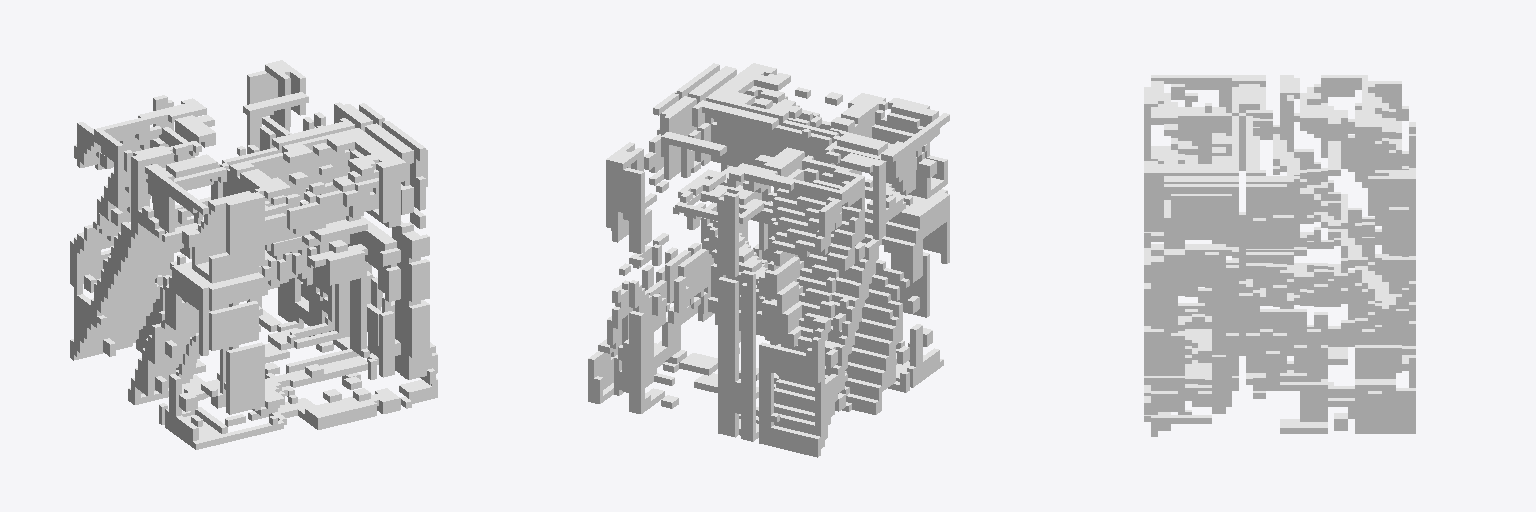
The model's file is building-1-b.obj.
The picture shows the model from 3 angles: view 1: azimuth 30°, elevation 25°; view 2: azimuth 150°, elevation 25°; view 3: azimuth 270°, elevation 25°; orthographic projection.
Parts seen in each view (by area): view 1: building-1-b; view 2: building-1-b; view 3: building-1-b.
Boxes of the visible parts, box(x1,y1,x2,y2) form: building-1-b: box(70, 60, 437, 449); building-1-b: box(588, 63, 949, 457); building-1-b: box(1144, 75, 1415, 436).
Size of the model in its own units: 40 by 40 by 40.